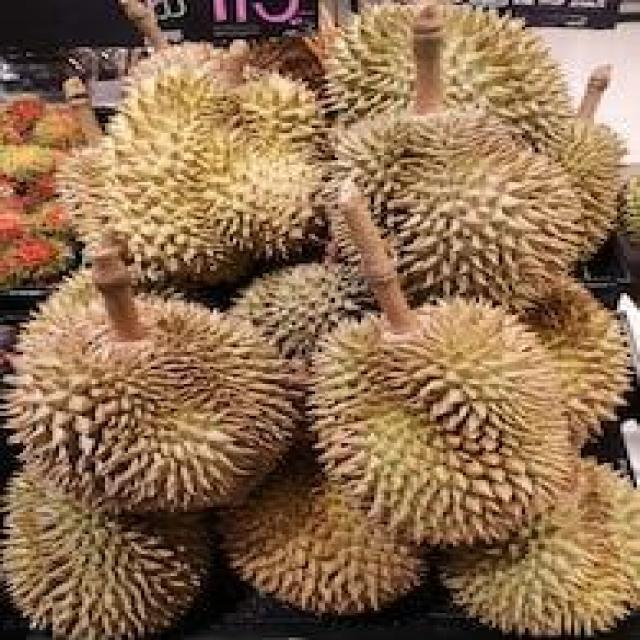mature: (10, 271, 302, 512), (310, 300, 598, 544), (60, 48, 323, 287), (335, 111, 597, 309), (223, 456, 422, 614)
